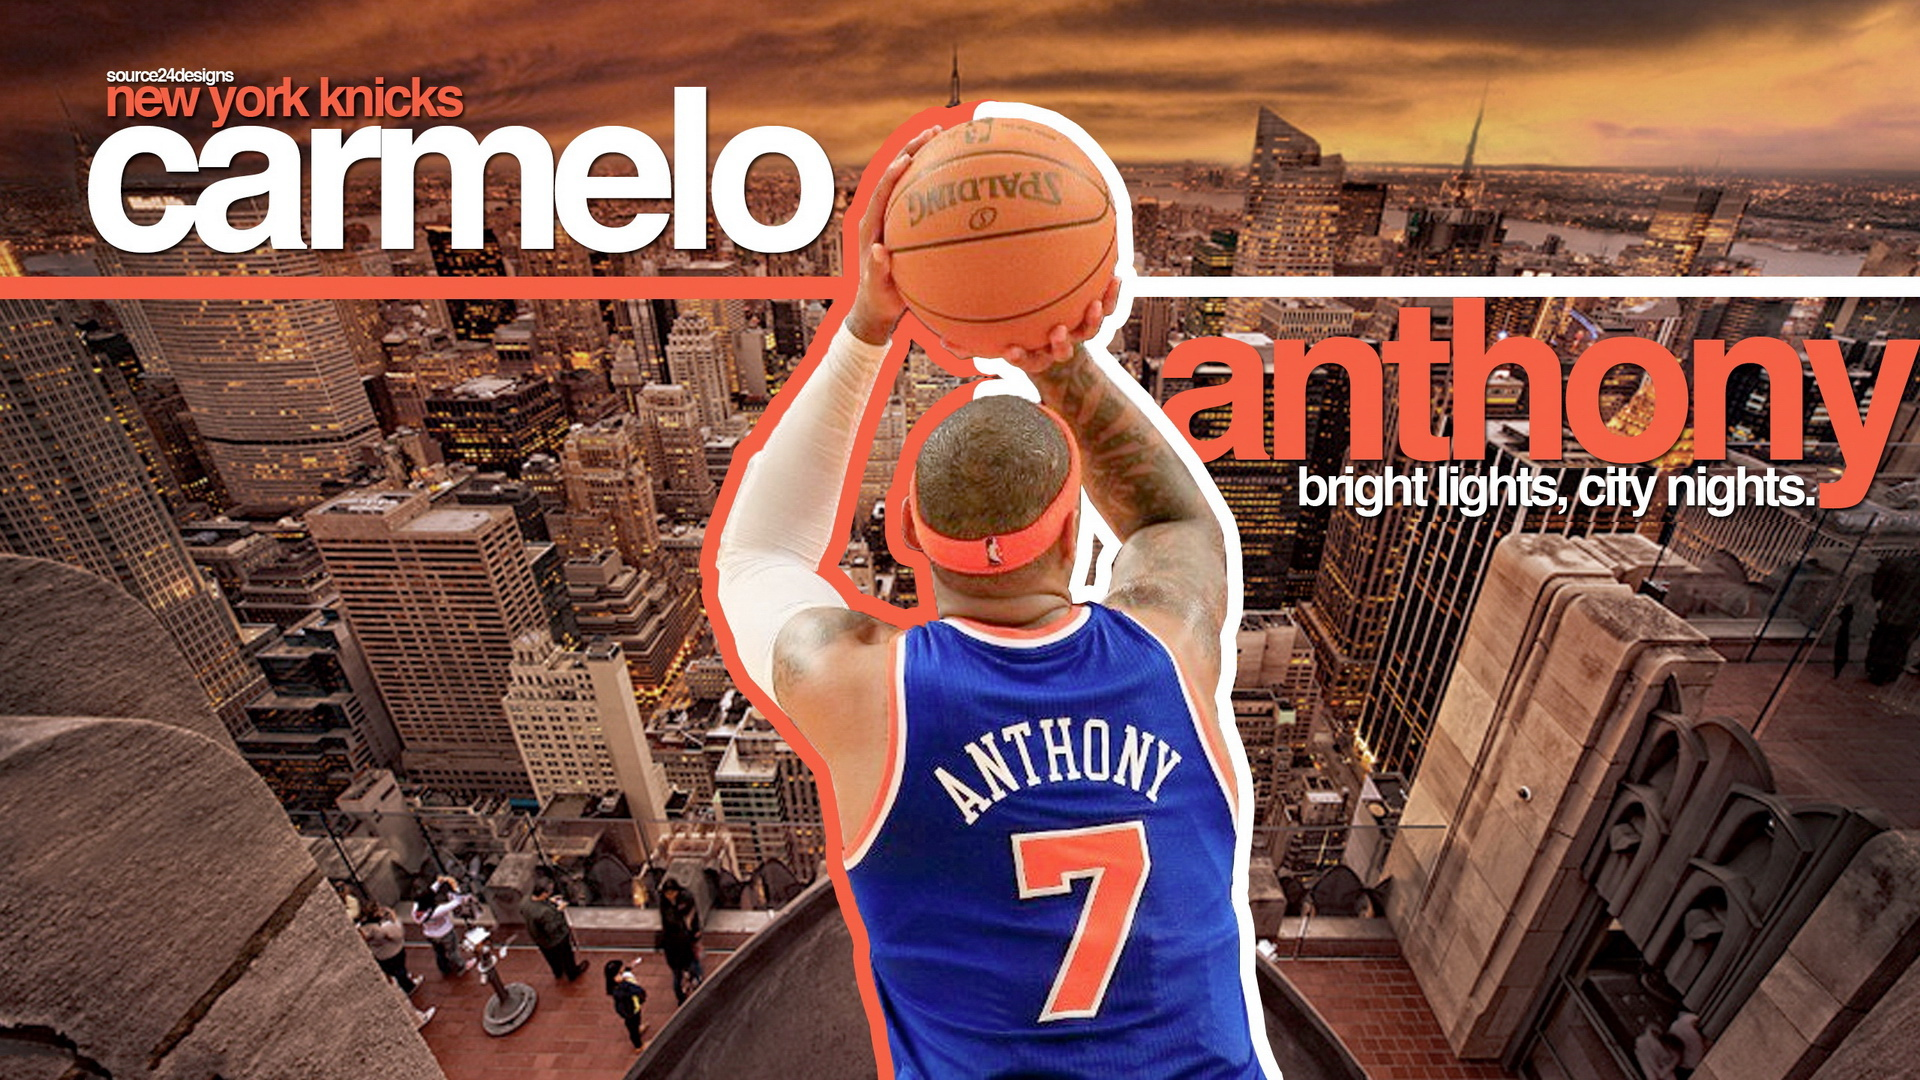ball: (880, 117, 1120, 349)
